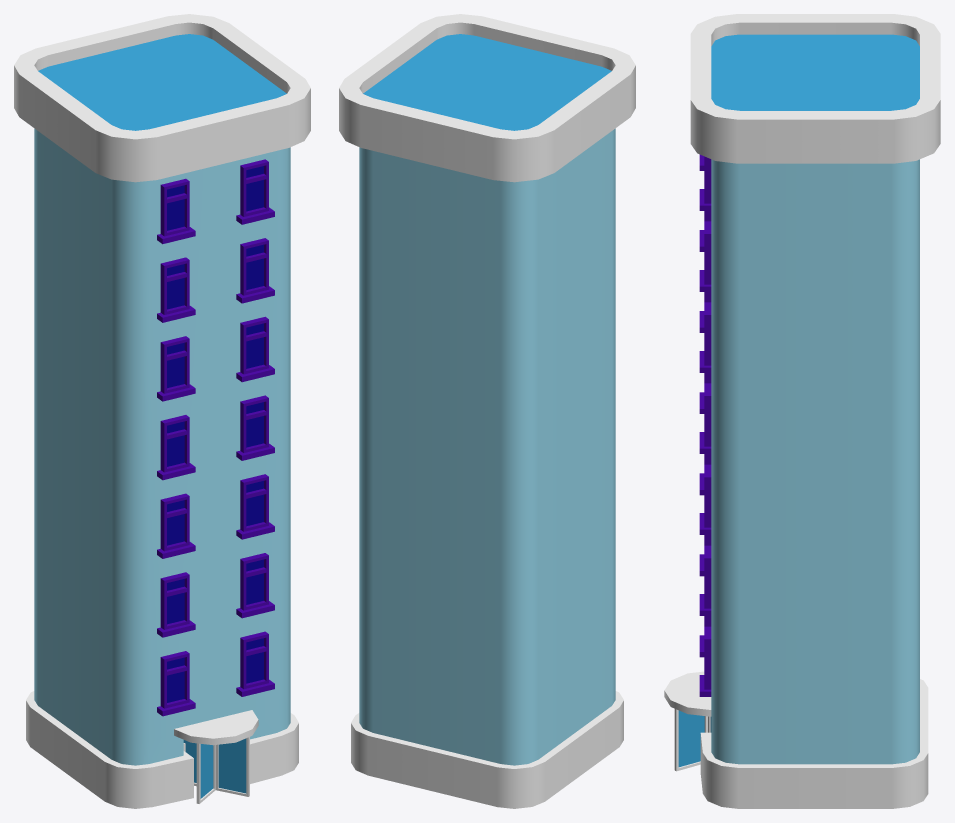
The model's file is House_5.fbx.
3 views of the same model, side by side, from view 1: azimuth 30°, elevation 25°; view 2: azimuth 150°, elevation 25°; view 3: azimuth 270°, elevation 25° (orthographic). The views are drawn at different scales.
Parts seen in each view (by area): view 1: Cube.001; view 2: Cube.001; view 3: Cube.001.
Part boxes in pixels (bbox=[...]): Cube.001: bbox=[14, 14, 310, 808]; Cube.001: bbox=[339, 14, 635, 808]; Cube.001: bbox=[664, 14, 940, 808].
Bounding box in the file's own units: 116 × 357 × 129.
